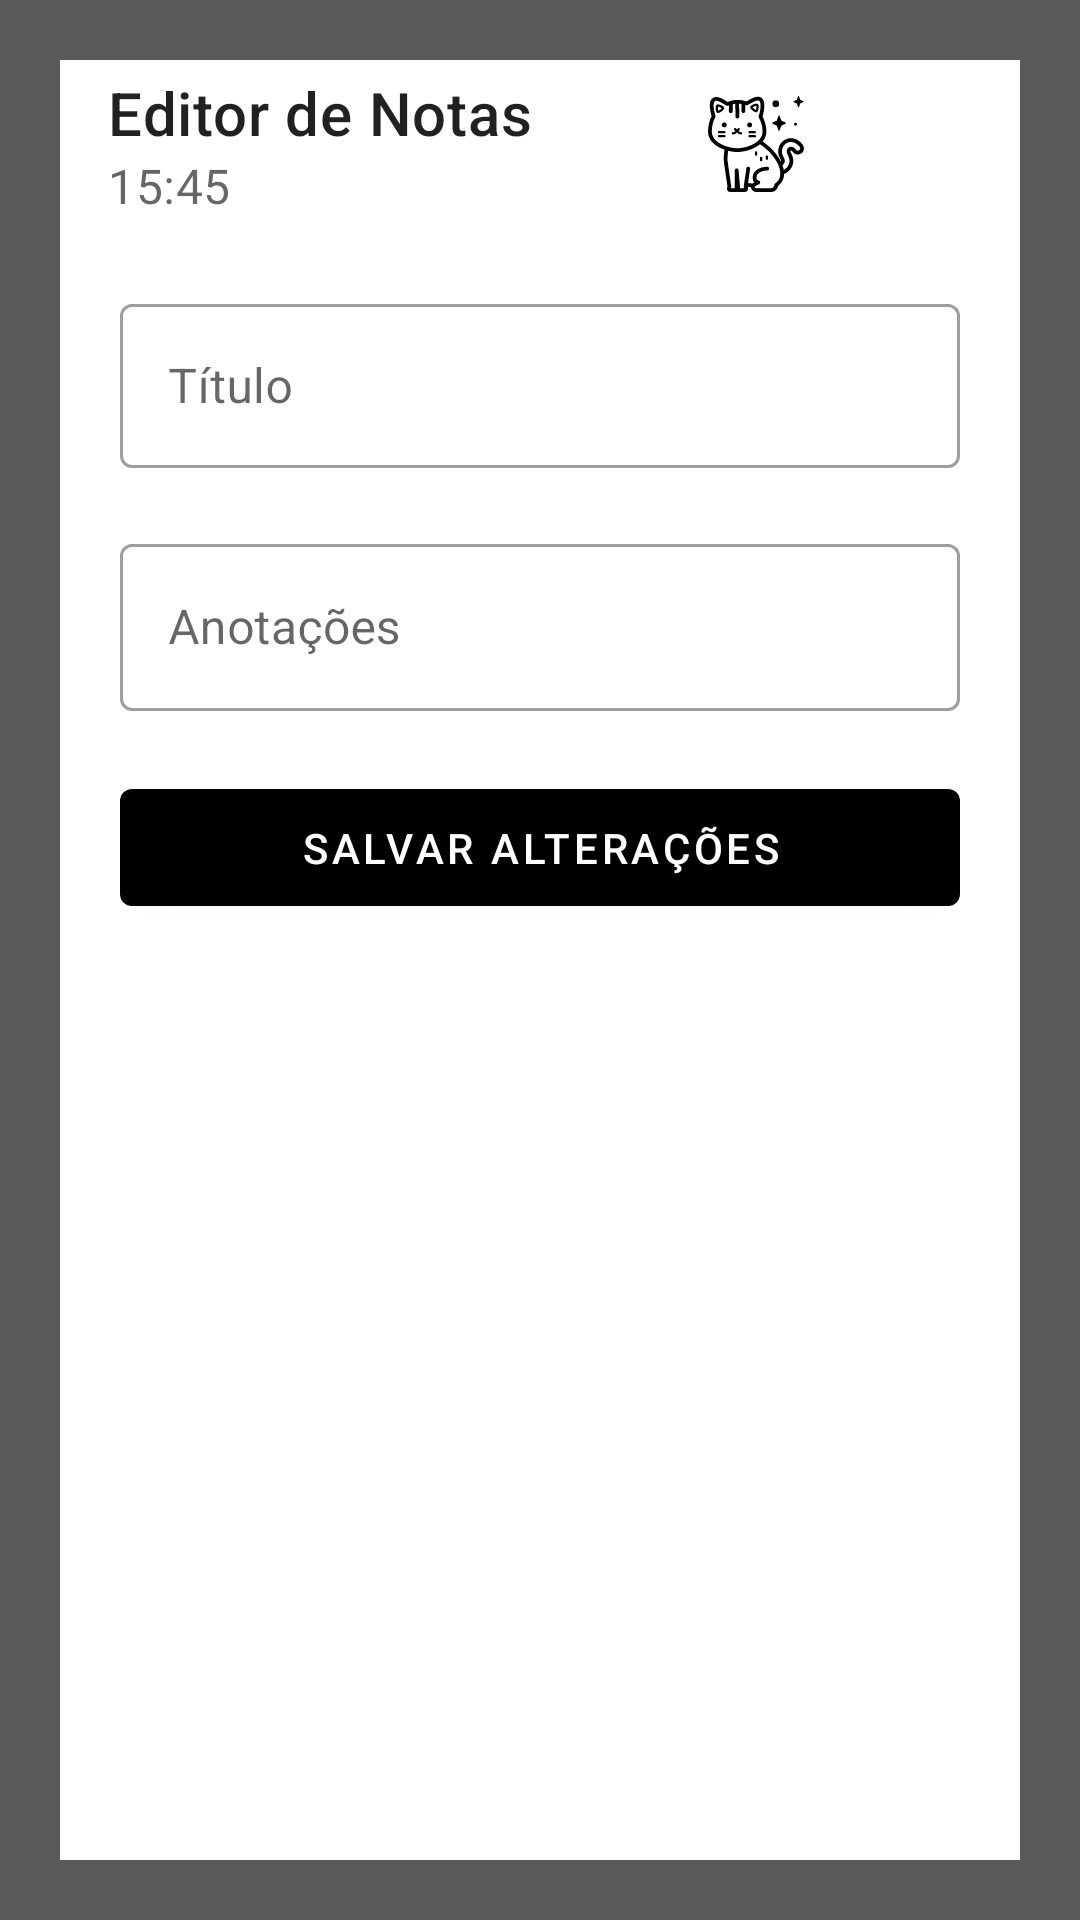

Where icons sit on this 1080×1920 app screen, as region(x1, y1, x2, y2):
cat brilhant: region(708, 96, 804, 192)
